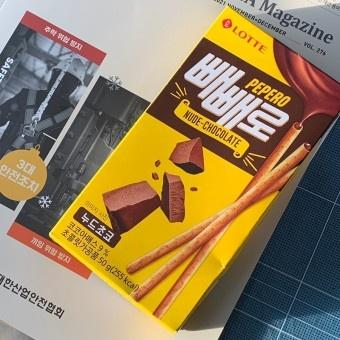snack: (47, 5, 340, 334)
